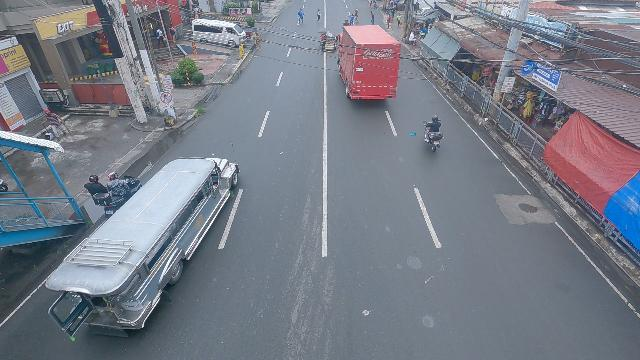jeepney: (45, 149, 245, 343)
motorcycle: (92, 168, 147, 221), (424, 115, 442, 148)
truck: (335, 22, 403, 105)
